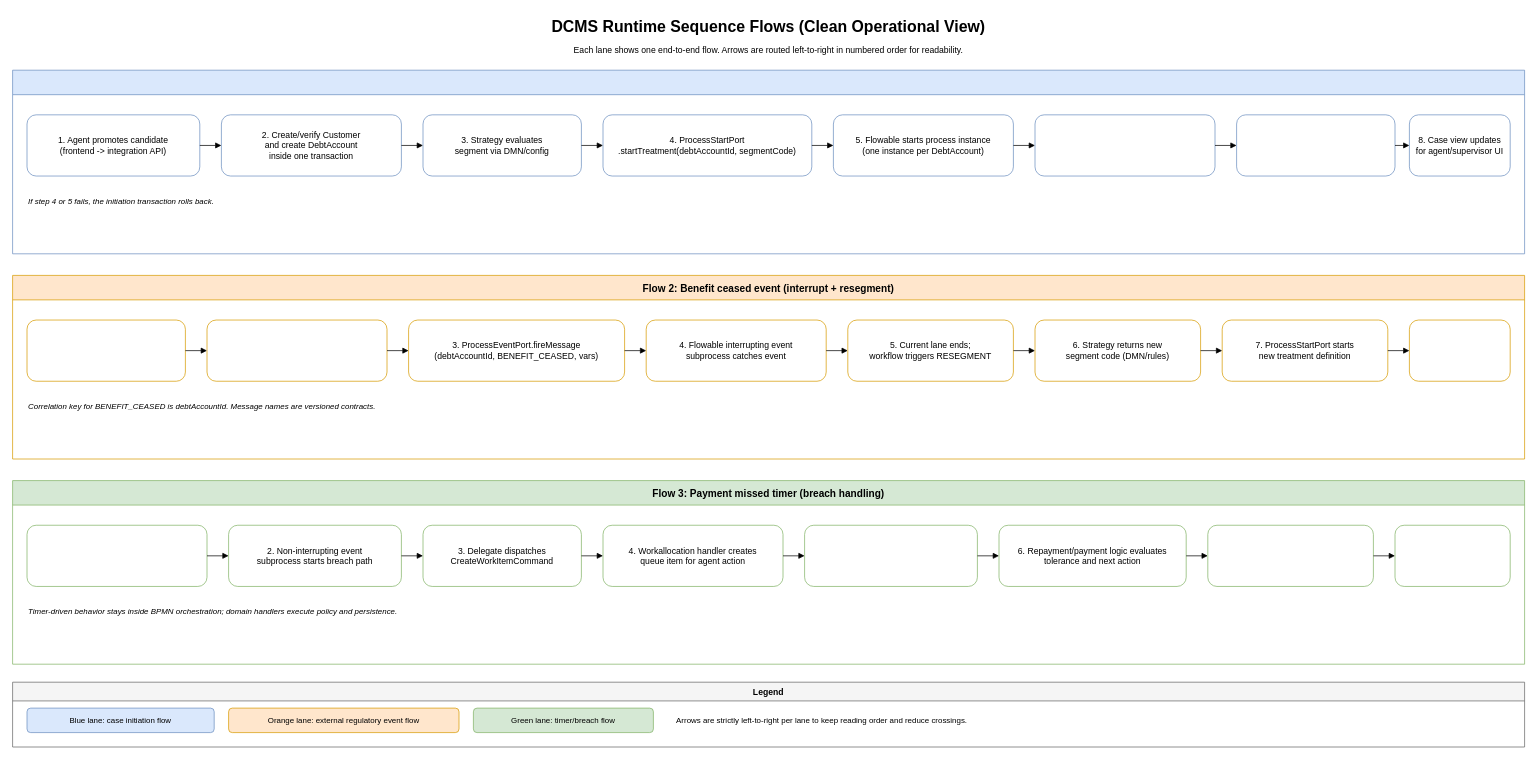
This 1537x760 diagram has some shape labels left out. Here are the shapes that lost their labels. From the top down, the box of each, then its label:
(12, 69, 1525, 254): Flow 1: Case initiation (atomic create + process start)
(1034, 114, 1215, 176): 6. Service tasks call delegates -> command bus -> handlers
(1236, 114, 1395, 176): 7. Domain modules persist ledger/comms/work/audit
(26, 319, 185, 381): 1. DWP source sends BENEFIT_CEASED update
(206, 319, 387, 381): 2. Integration validates payload and idempotency key/reference
(1409, 319, 1510, 381): 8. Delegates/handlers update work, comms, audit and UI state
(26, 525, 207, 586): 1. Payment timer reaches due threshold inside active process instance
(804, 525, 977, 586): 5. Communications handler sends reminder based on policy
(1207, 525, 1373, 586): 7. Account + audit persist breach facts and decisions
(1394, 525, 1510, 586): 8. Queue and case state refresh in agent/supervisor UI
